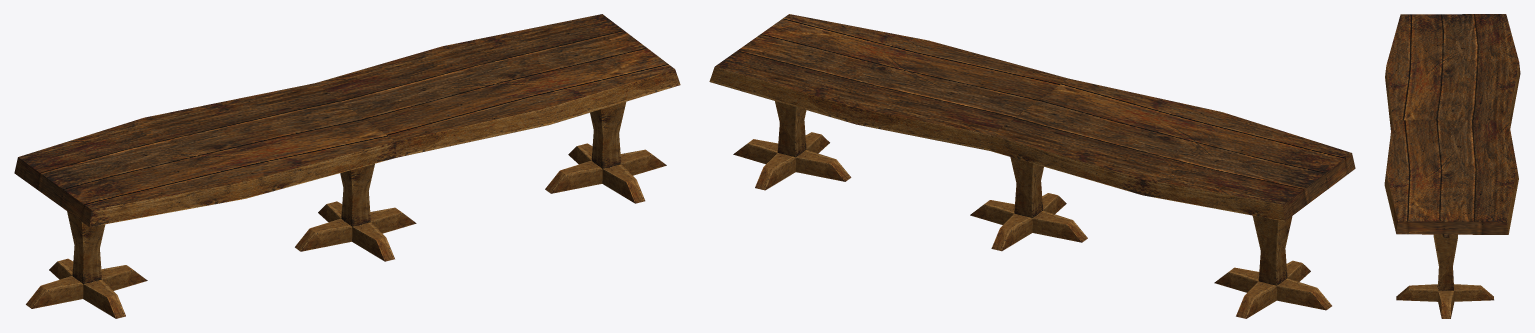
Rendered from mm9_deco_table01ns.glb.
The picture shows the model from 3 angles, left to right: view 1: azimuth 30°, elevation 25°; view 2: azimuth 150°, elevation 25°; view 3: azimuth 270°, elevation 25°; orthographic projection. The views are drawn at different scales.
Visible parts, largest first — view 1: Table01ns; view 2: Table01ns; view 3: Table01ns.
Boxes of the visible parts, x1=… form: Table01ns: x1=14, y1=14, x2=680, y2=318; Table01ns: x1=709, y1=14, x2=1355, y2=318; Table01ns: x1=1384, y1=14, x2=1520, y2=318.
Size of the model in its own units: 5.43 by 1.03 by 1.41.
Materials: 1 (1 with a texture image).
